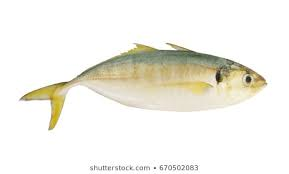Ikan Selar: (29, 47, 267, 126)
